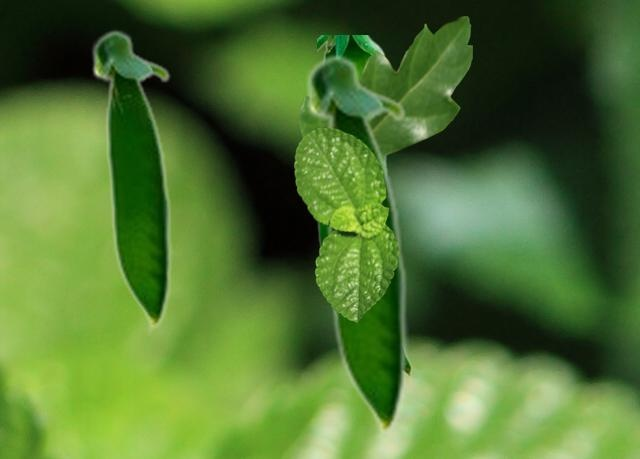pea: (304, 52, 407, 440), (317, 35, 411, 377), (90, 28, 171, 333)
